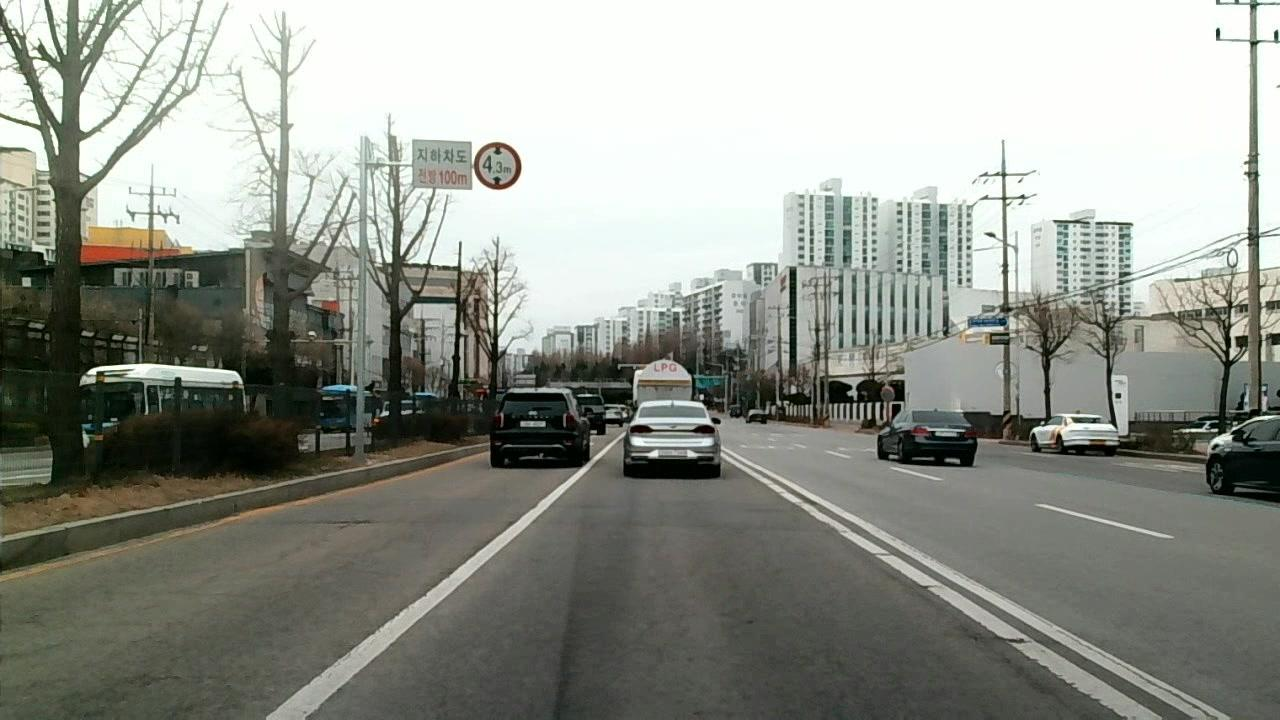hcrack: (293, 517, 375, 528)
vcrack: (945, 622, 1072, 709)
